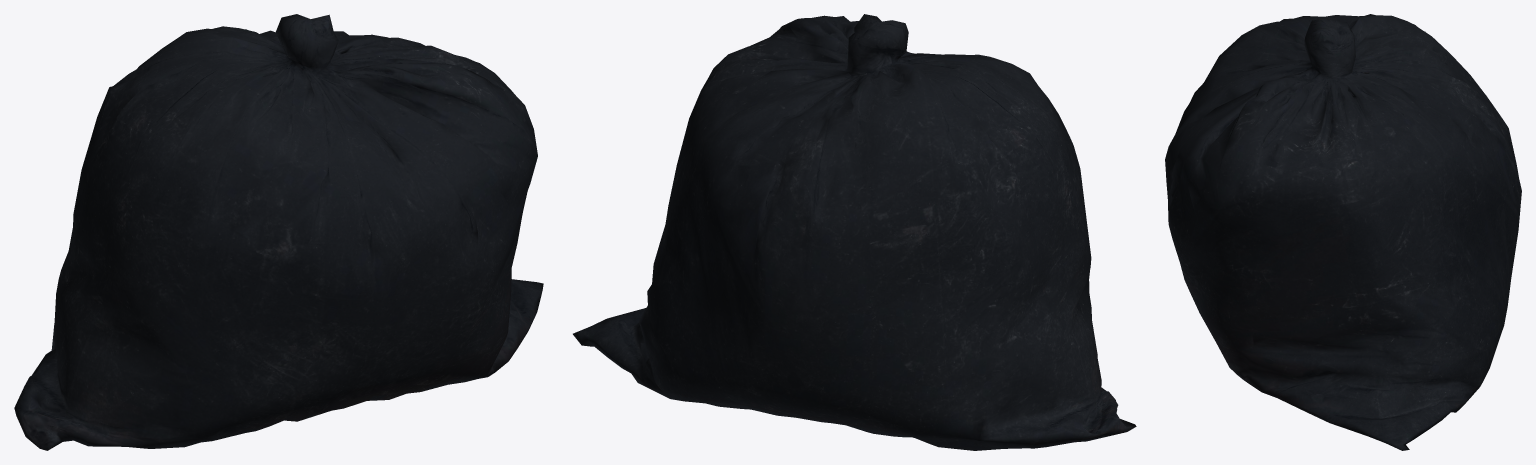
3 views of the same model, side by side, from view 1: azimuth 30°, elevation 25°; view 2: azimuth 150°, elevation 25°; view 3: azimuth 270°, elevation 25° (orthographic). The views are drawn at different scales.
Parts seen in each view (by area): view 1: vcblbchga_LOD0_TIER2_000; view 2: vcblbchga_LOD0_TIER2_000; view 3: vcblbchga_LOD0_TIER2_000.
Part boxes in pixels (x1,y1,x2,y2): vcblbchga_LOD0_TIER2_000: (14,14,543,450); vcblbchga_LOD0_TIER2_000: (573,14,1136,450); vcblbchga_LOD0_TIER2_000: (1165,14,1521,450).
Size of the model in its own units: 0.6826 by 0.4432 by 0.4507.
Materials: 1 (1 with a texture image).
